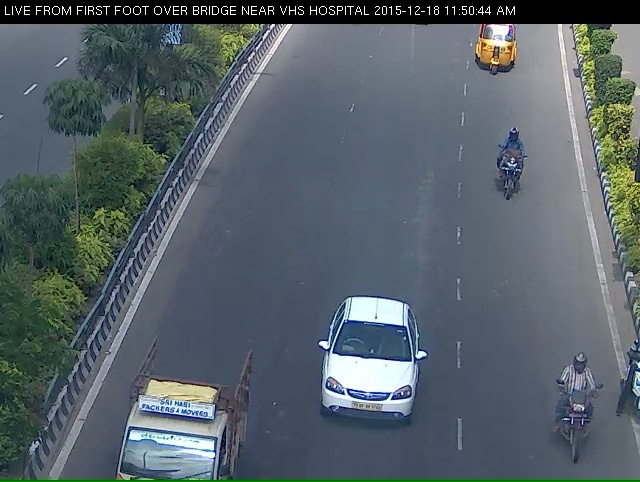Auto: (104, 384, 241, 478), (476, 22, 520, 85)
Car: (307, 332, 422, 458)
Person: (552, 373, 599, 470), (497, 138, 529, 217)
